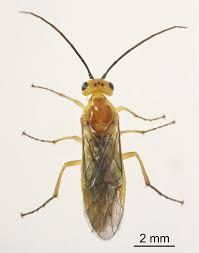insect: (10, 3, 191, 243)
